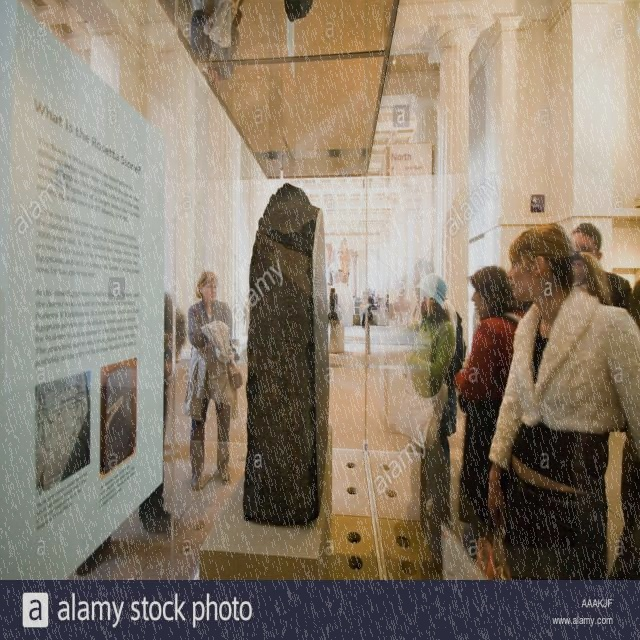pessoa: (486, 217, 640, 580), (458, 266, 526, 566), (401, 269, 457, 562), (402, 270, 460, 546), (182, 263, 245, 492), (139, 284, 187, 534), (570, 221, 632, 310), (186, 3, 238, 92), (613, 433, 638, 597), (282, 0, 313, 21), (360, 306, 373, 328), (384, 294, 390, 314), (367, 293, 374, 305), (374, 295, 380, 308), (351, 294, 357, 304)
